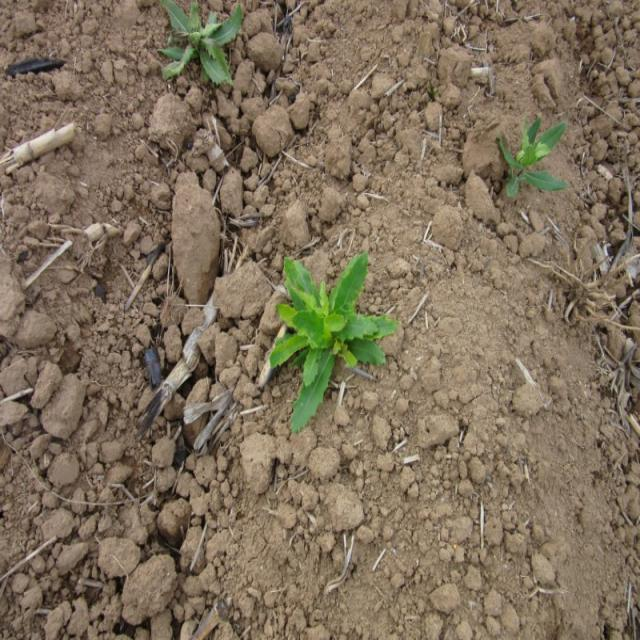cs: (269, 247, 396, 434)
